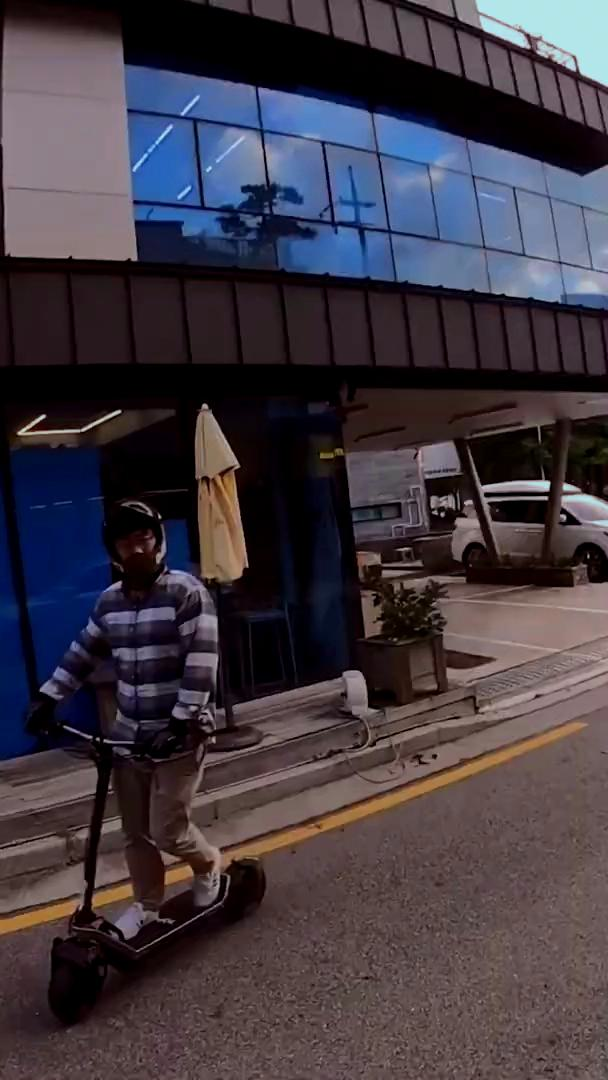helmet: (18, 495, 271, 1029)
